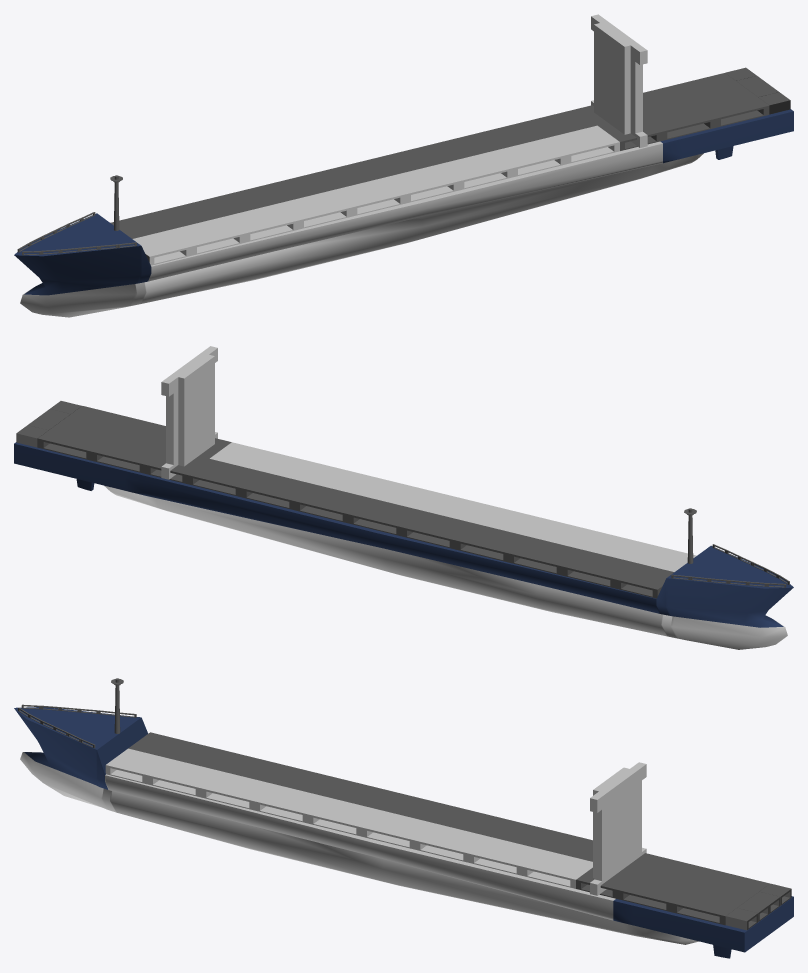
The model's file is ship_.obj.
3 views of the same model, one above another, from view 1: azimuth 30°, elevation 25°; view 2: azimuth 150°, elevation 25°; view 3: azimuth 330°, elevation 25° (orthographic).
Visible parts, largest first — view 1: cube5139, polymsh599, cube, polymsh600; view 2: cube5139, polymsh599, cube, polymsh600; view 3: cube5139, polymsh599, cube, polymsh600, cube5158.
Boxes of the visible parts, x1,y1,x2,y2 form: cube5139: (14, 109, 793, 317); polymsh599: (110, 73, 769, 265); cube: (591, 14, 647, 147); polymsh600: (17, 212, 136, 255); cube5139: (14, 442, 793, 649); polymsh599: (37, 406, 696, 598); cube: (161, 346, 217, 479); polymsh600: (671, 544, 789, 587); cube5139: (14, 707, 793, 952); polymsh599: (105, 732, 769, 925); cube: (590, 762, 646, 895); polymsh600: (18, 704, 136, 748); cube5158: (726, 908, 757, 930).
Size of the model in its own units: 73.01 by 14.36 by 8.54.
